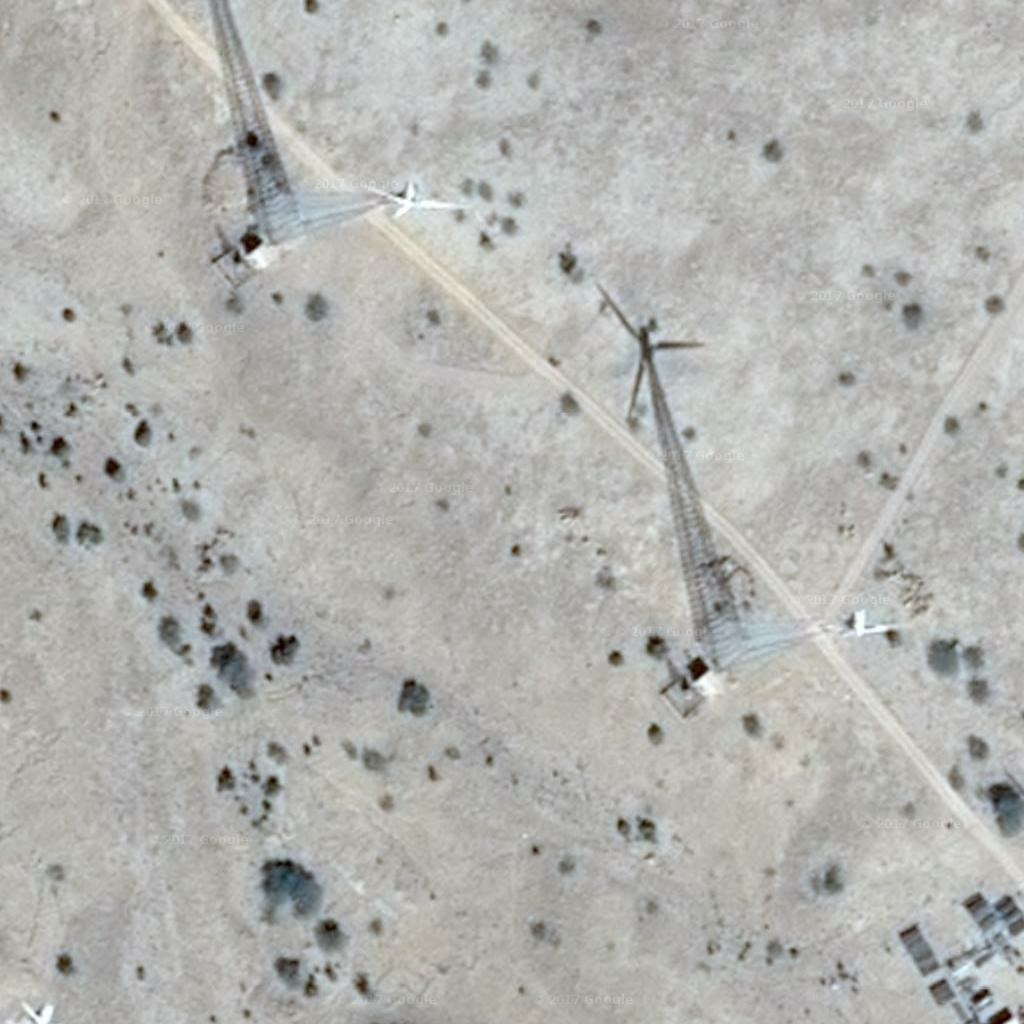Windmill: (597, 280, 749, 644)
